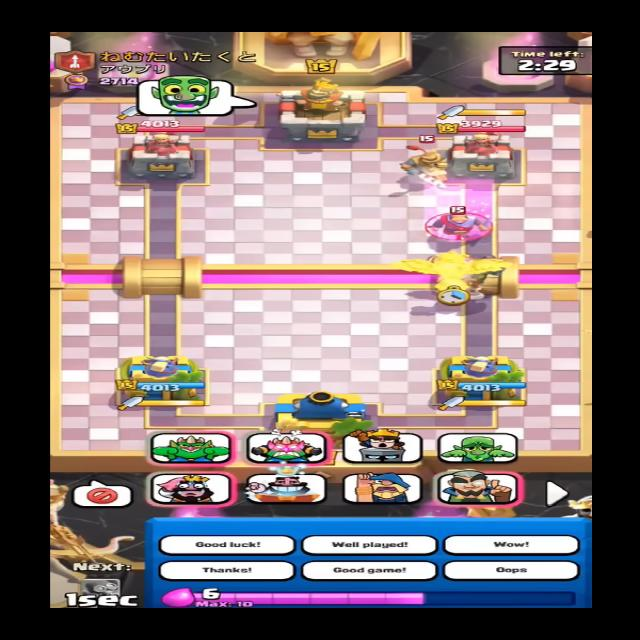Knight: (434, 206, 492, 240)
Prince: (399, 145, 456, 191)
